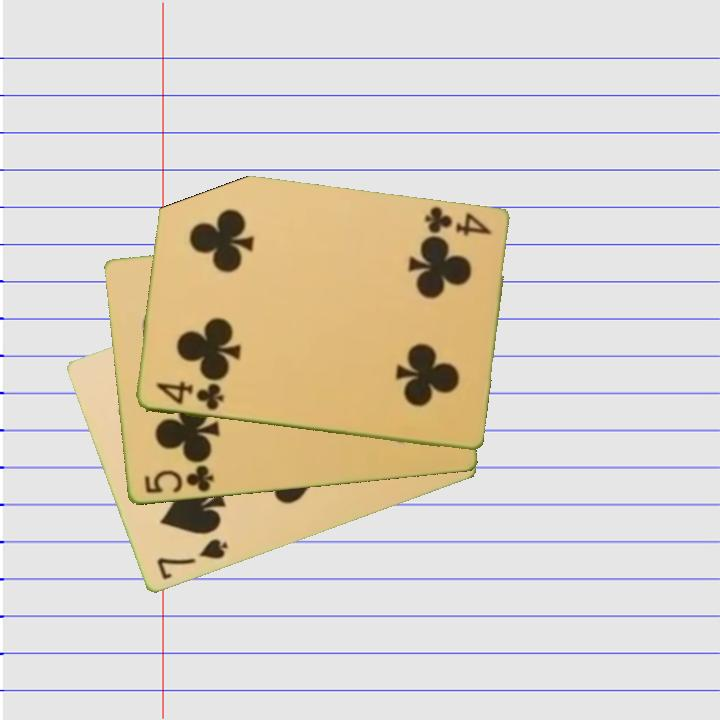4c: (152, 378, 227, 413), (420, 204, 493, 239)
5c: (140, 462, 216, 497)
7s: (153, 536, 231, 584)
